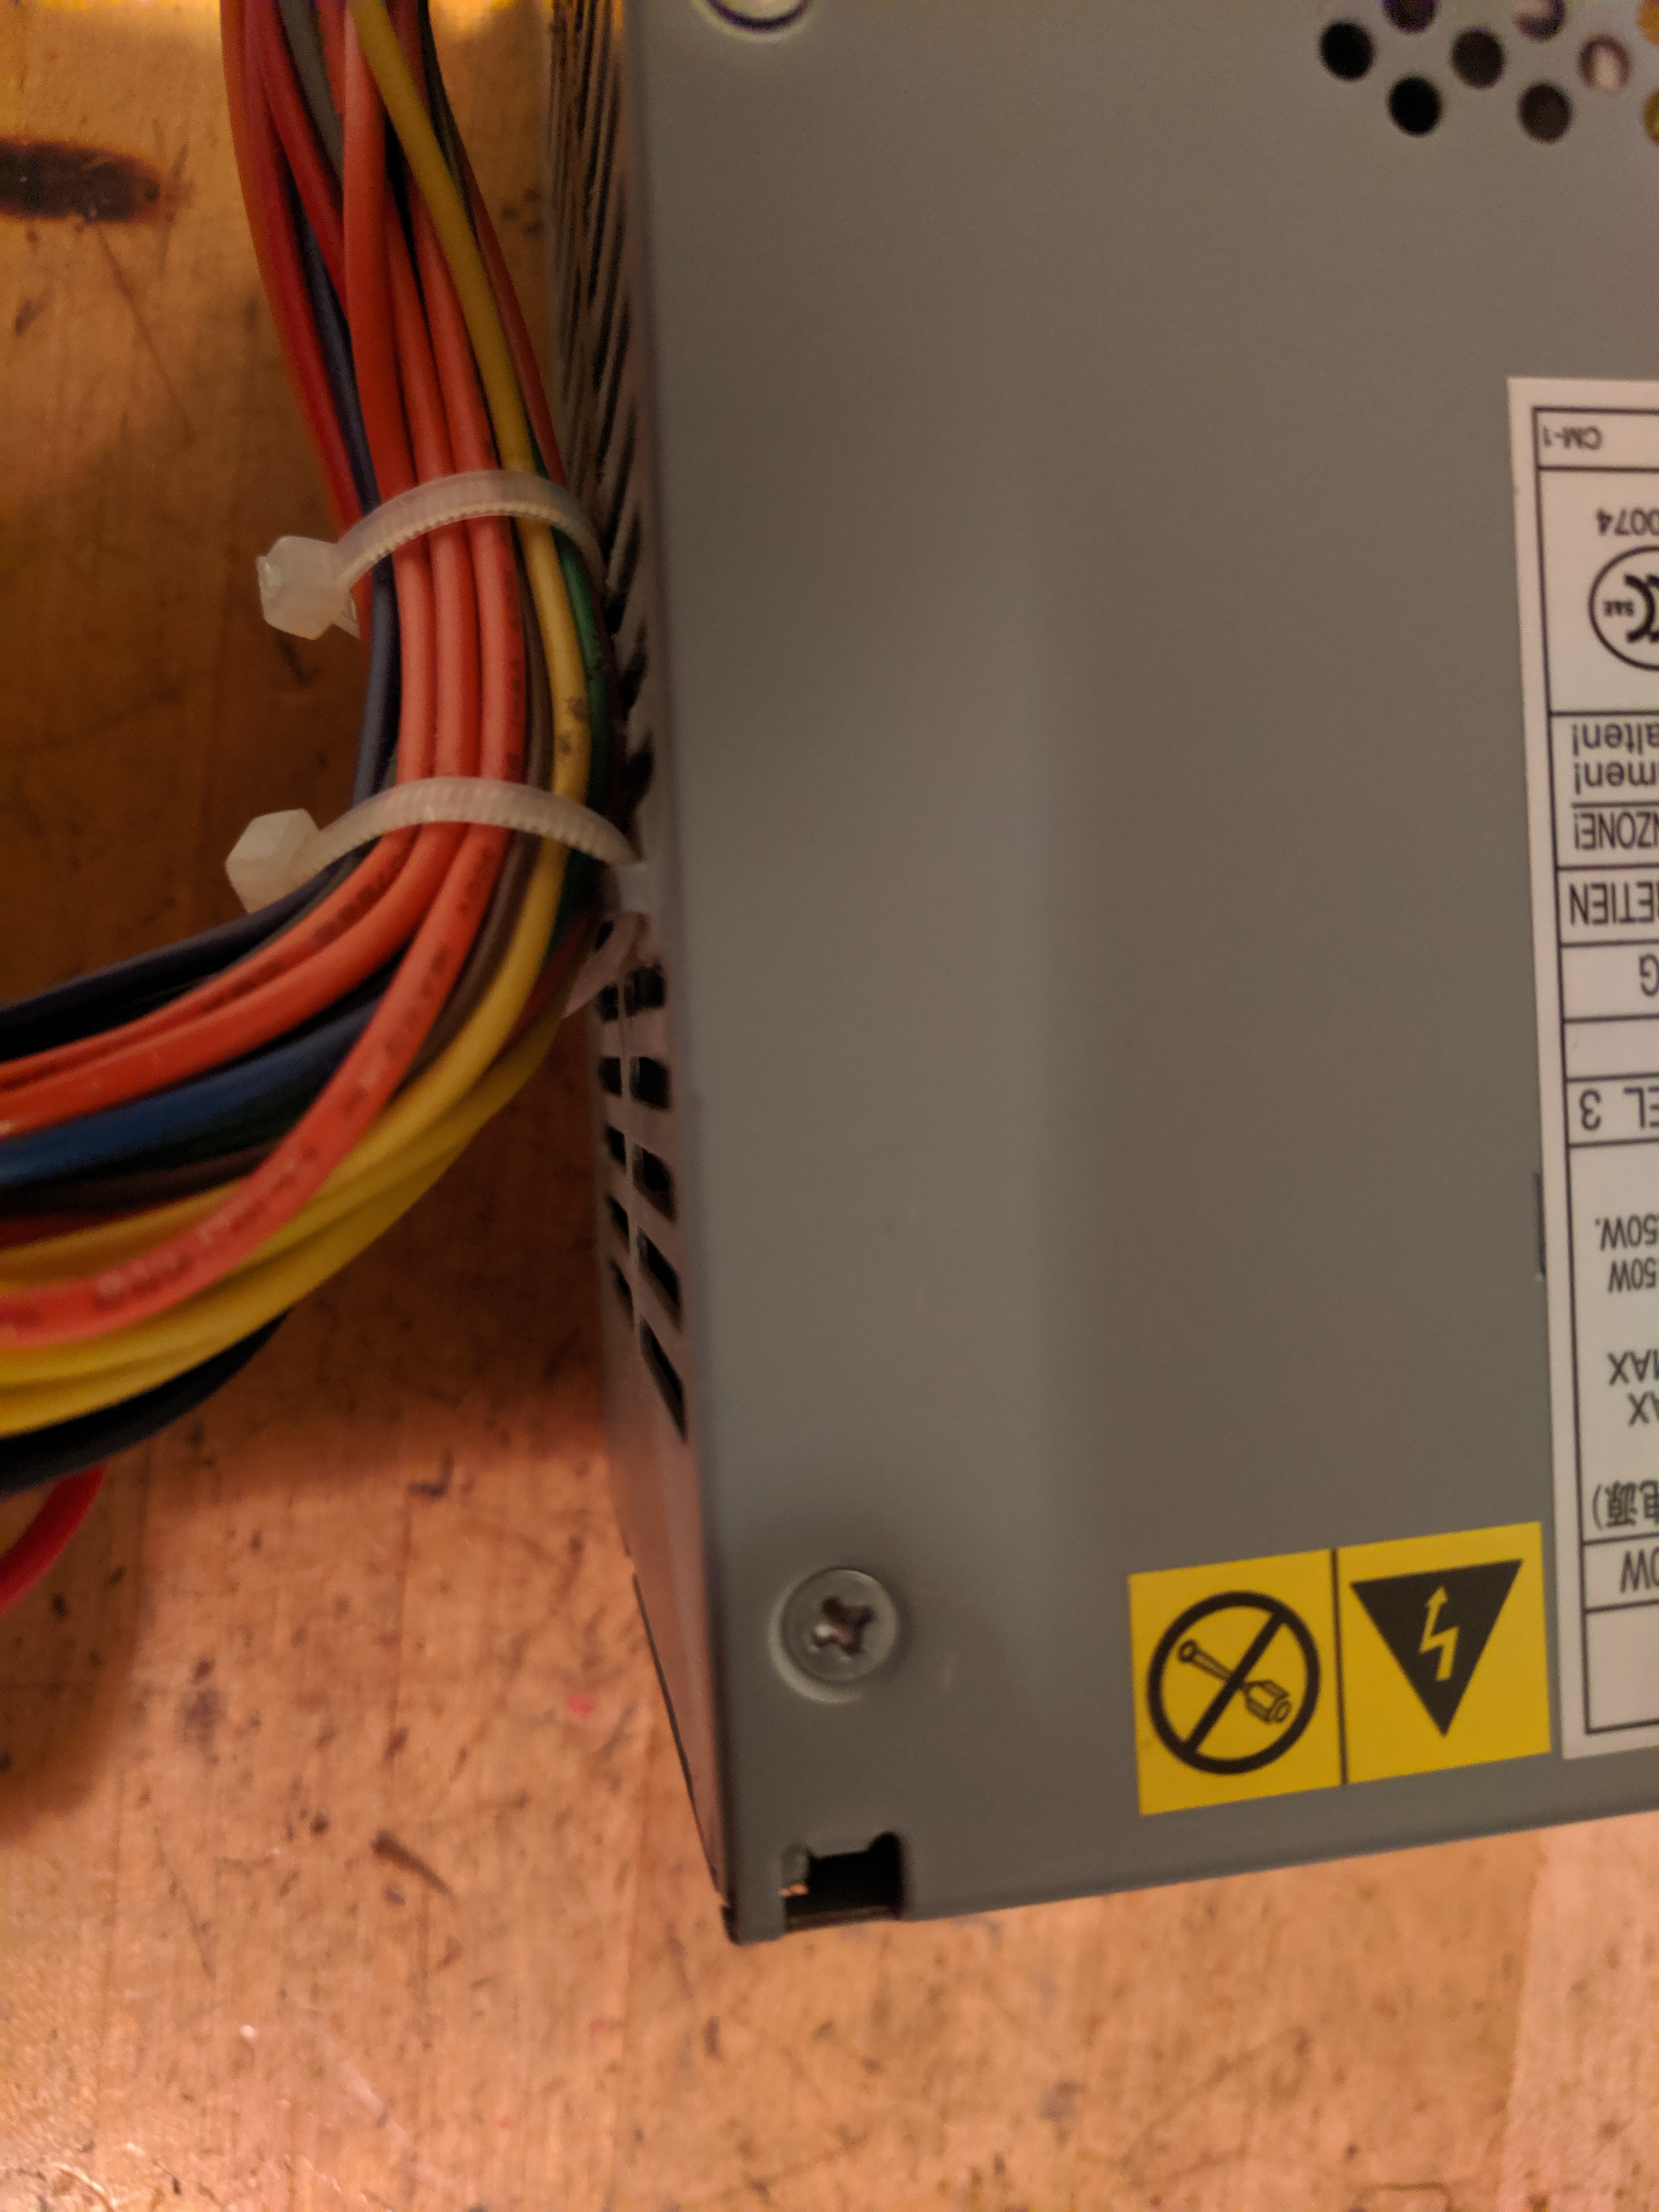cross_recessed_screw: (775, 1554, 908, 1688)
